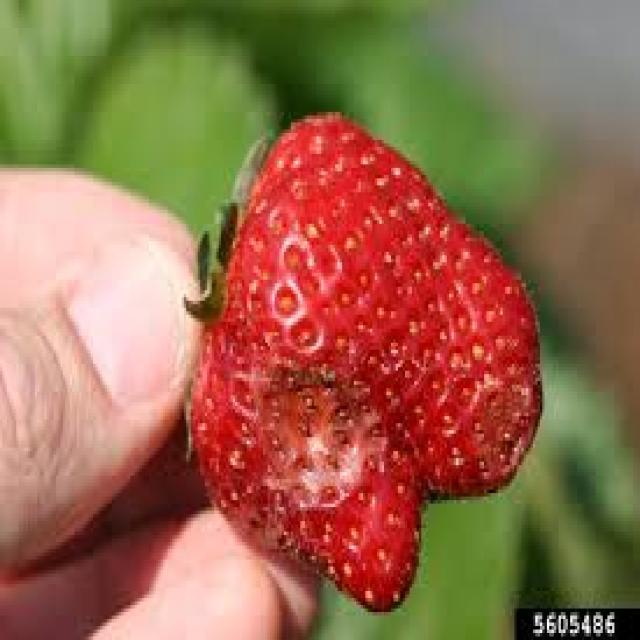Mancha negra Antracnosis: (193, 89, 544, 609)
